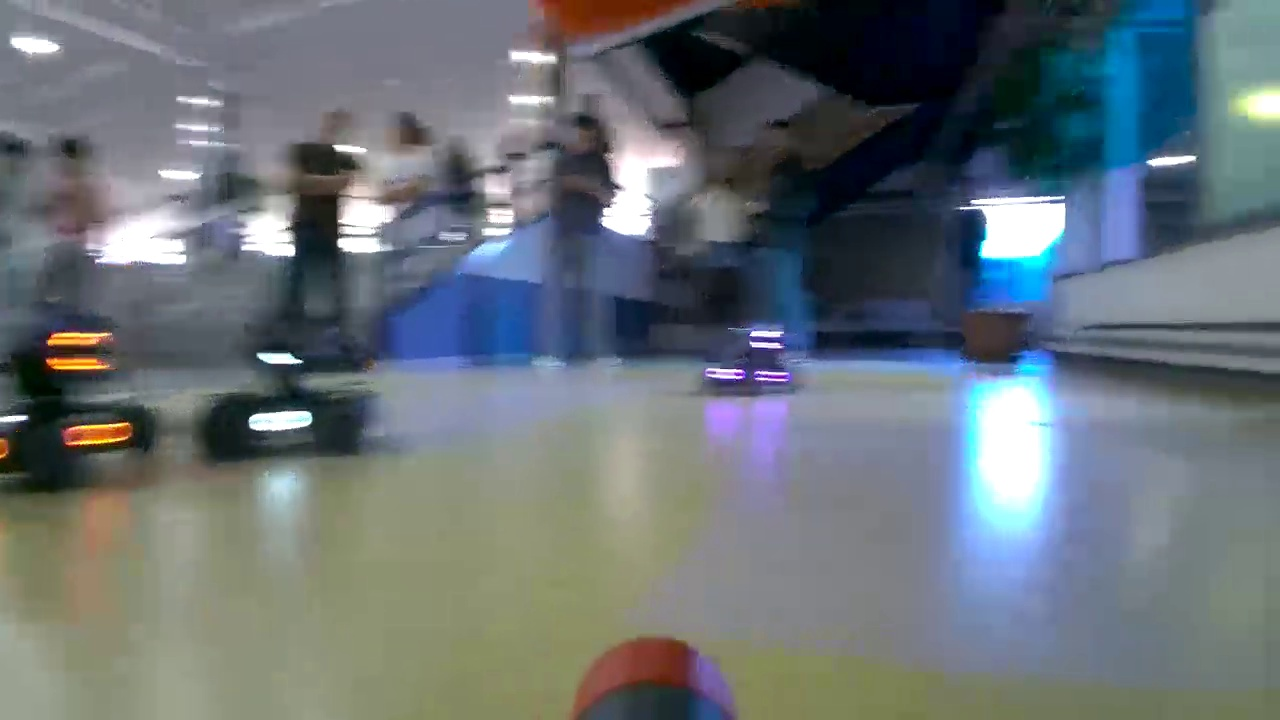robot: (8, 322, 152, 478), (212, 340, 380, 450), (704, 330, 792, 394)
